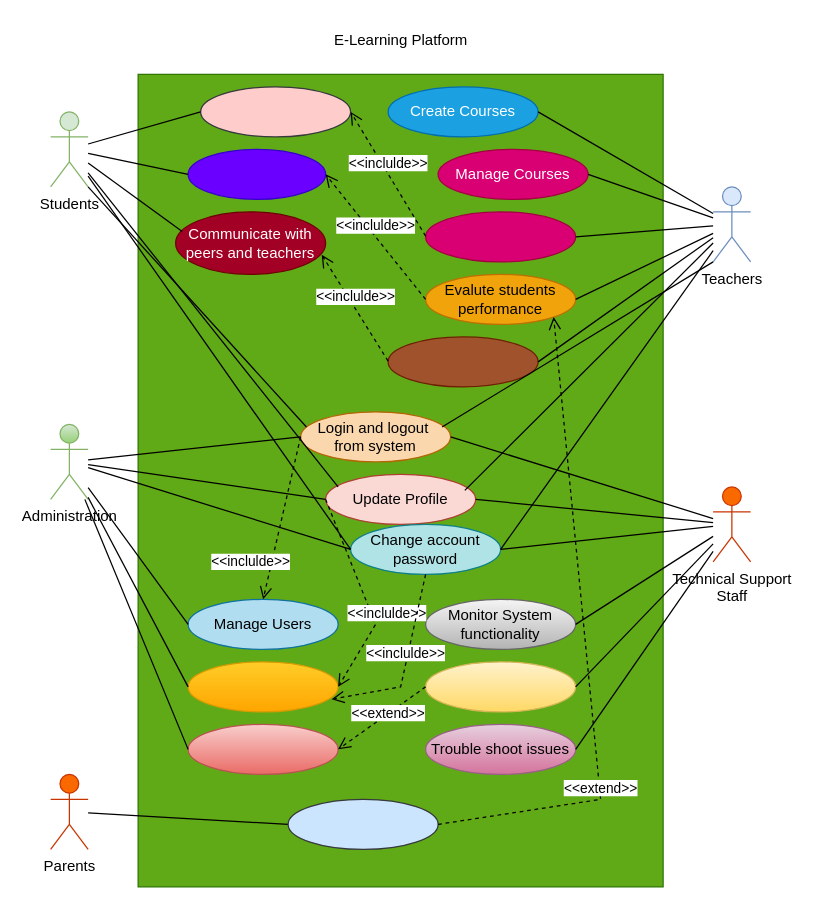
This 813x909 diagram has some shape labels left out. The box of each missing label's shape, as (x1, y1, x2, y2) in pixels:
Access Learning Materials: (199, 86, 351, 137)
Communicate with students: (387, 336, 538, 387)
Complete Assesments: (187, 148, 326, 199)
Control platform settings: (187, 723, 338, 774)
Monitor system activities: (187, 661, 338, 712)
Provides update: (424, 661, 576, 712)
Upload Content: (424, 211, 576, 262)
View students performance: (287, 798, 438, 849)
